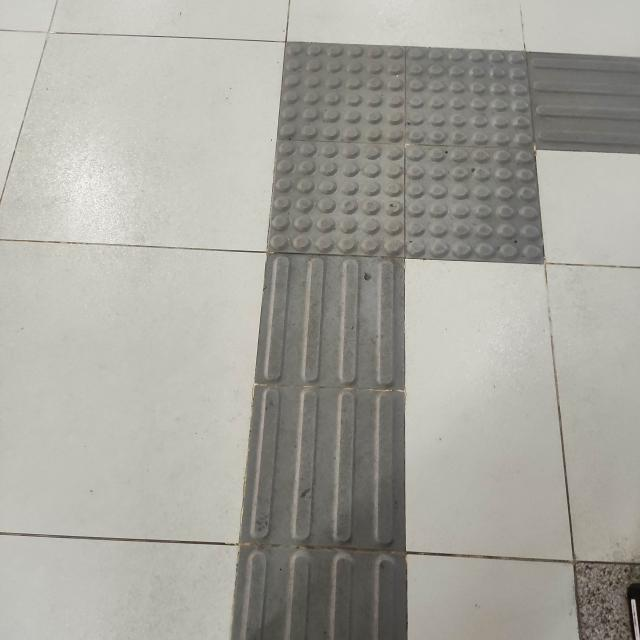kanan: (186, 24, 640, 342)
